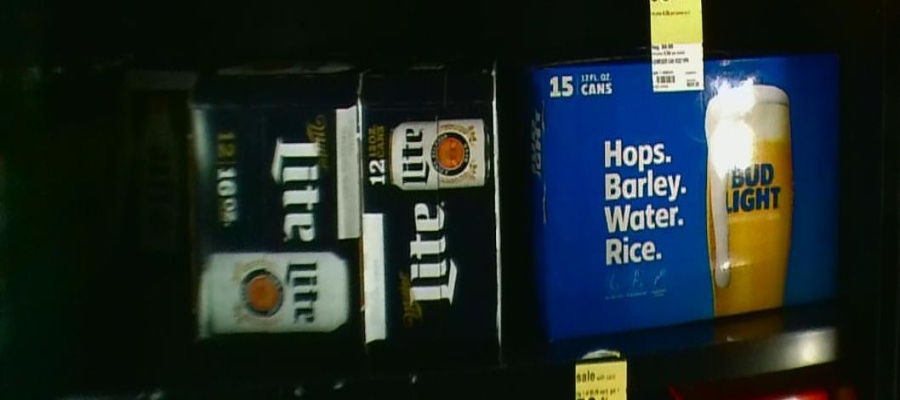bottle: (528, 62, 836, 331), (189, 73, 362, 351), (365, 72, 504, 360), (122, 67, 188, 276)
